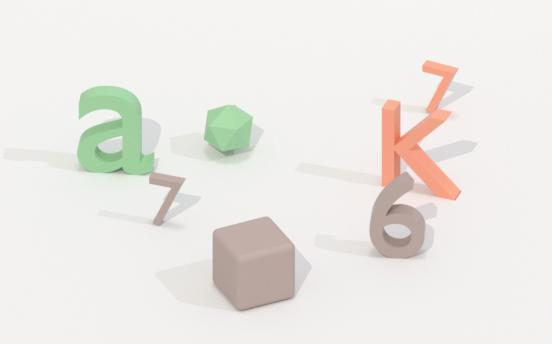chu_khoi: (381, 100, 459, 198), (77, 86, 154, 174)
da_giac: (204, 105, 252, 152)
lap_phuong: (212, 217, 294, 309)
so_khoi: (370, 172, 425, 257), (149, 173, 184, 225), (422, 60, 457, 112)
